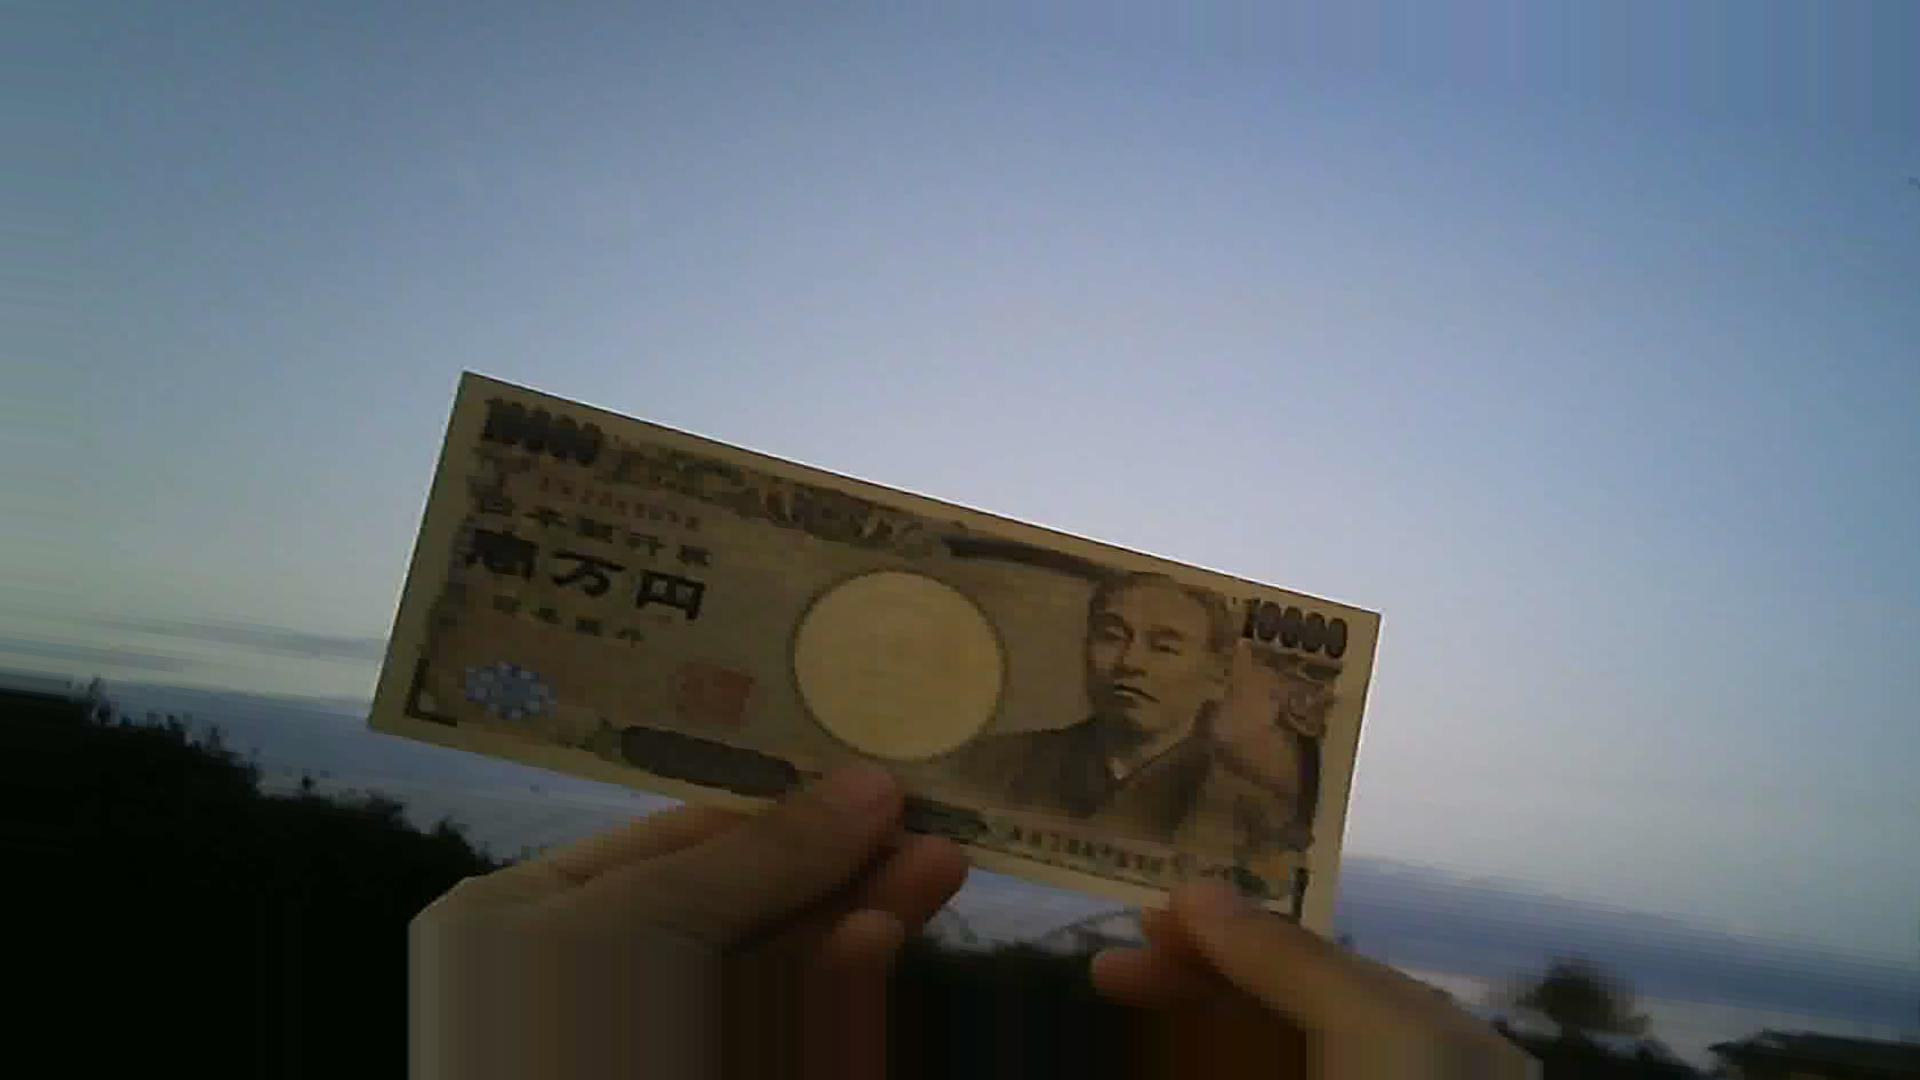10,000 Yen: (353, 343, 1433, 949)
